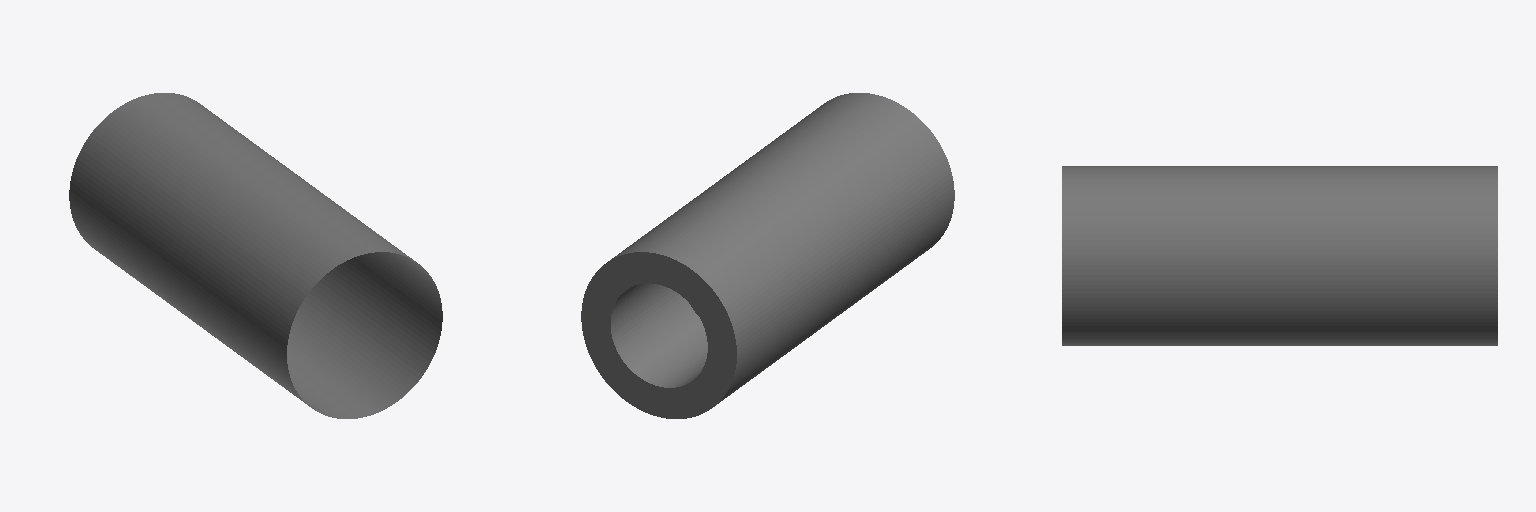
The model's file is spindel.obj.
The picture shows the model from 3 angles: view 1: azimuth 30°, elevation 25°; view 2: azimuth 150°, elevation 25°; view 3: azimuth 270°, elevation 25°; orthographic projection.
Visible parts, largest first — view 1: spindel_spindel.001; view 2: spindel_spindel.001; view 3: spindel_spindel.001.
Boxes of the visible parts, box(x1,y1,x2,y2) form: spindel_spindel.001: box(69, 93, 442, 418); spindel_spindel.001: box(581, 93, 954, 418); spindel_spindel.001: box(1062, 166, 1497, 345).
Bounding box in the file's own units: 64 × 64 × 155.